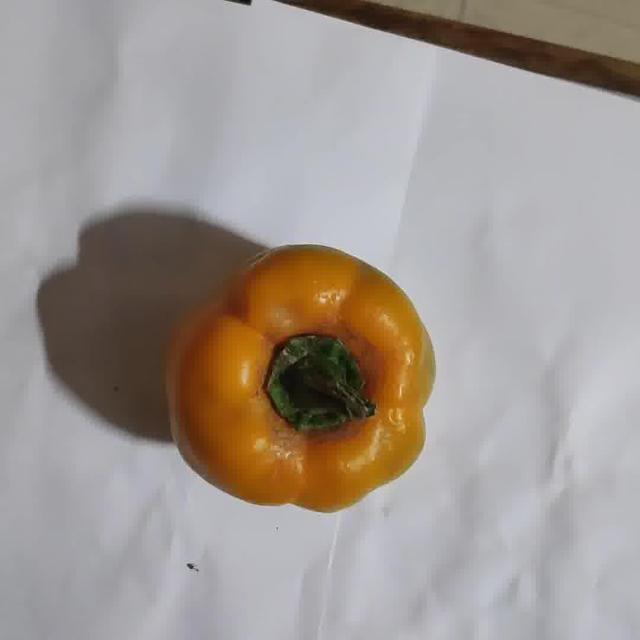Bell Pepper: (168, 246, 434, 511)
